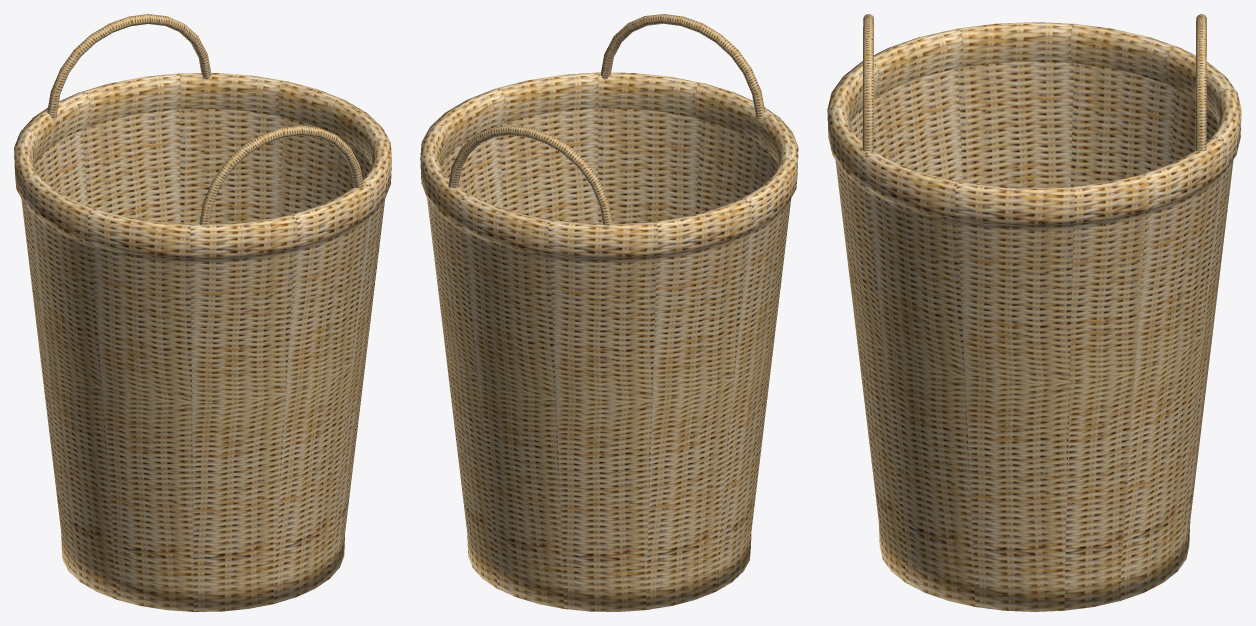
Rendered from ClothesBasket.fbx.
3 views of the same model, side by side, from view 1: azimuth 30°, elevation 25°; view 2: azimuth 150°, elevation 25°; view 3: azimuth 270°, elevation 25° (orthographic). The views are drawn at different scales.
Parts seen in each view (by area): view 1: BezierCurve.001; view 2: BezierCurve.001; view 3: BezierCurve.001.
Part boxes in pixels (bbox=[...]): BezierCurve.001: bbox=[14, 14, 391, 611]; BezierCurve.001: bbox=[420, 14, 798, 611]; BezierCurve.001: bbox=[827, 14, 1241, 611].
Size of the model in its own units: 226 by 315 by 226.
1 material, 1 textured.
